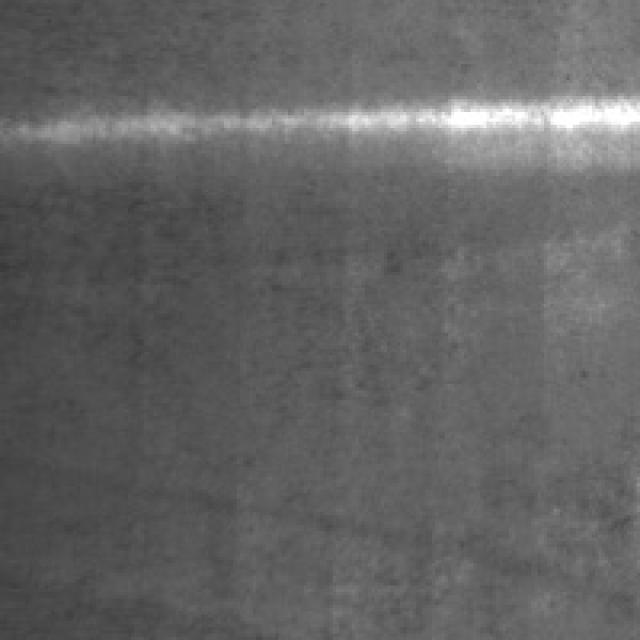scratches: (3, 84, 634, 166)
